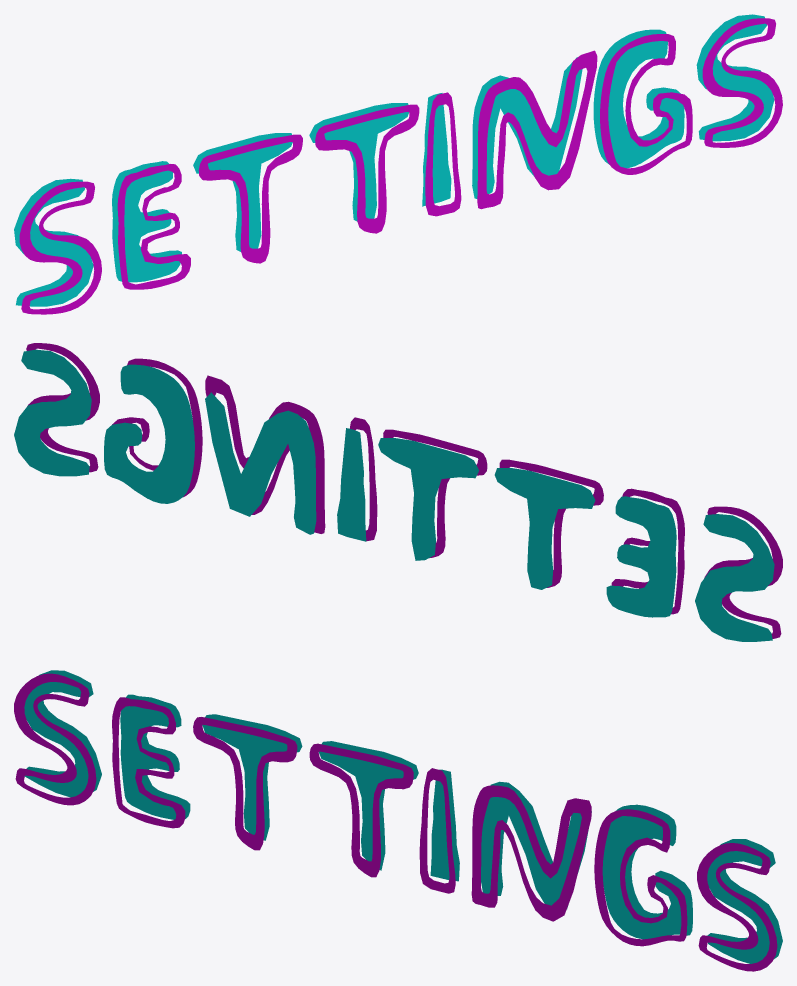
The model's file is mesh_text_settings.fbx.
3 views of the same model, one above another, from view 1: azimuth 30°, elevation 25°; view 2: azimuth 150°, elevation 25°; view 3: azimuth 330°, elevation 25° (orthographic).
Parts seen in each view (by area): view 1: mesh_text_settings, mesh_text_settings1; view 2: mesh_text_settings, mesh_text_settings1; view 3: mesh_text_settings, mesh_text_settings1.
Boxes of the visible parts, x1,y1,x2,y2 form: mesh_text_settings: (14, 14, 774, 306); mesh_text_settings1: (19, 18, 782, 314); mesh_text_settings: (14, 349, 774, 641); mesh_text_settings1: (26, 343, 782, 638); mesh_text_settings: (24, 670, 782, 963); mesh_text_settings1: (14, 673, 777, 971).
Bounding box in the file's own units: 0.1328 × 0.0227 × 0.00212.
